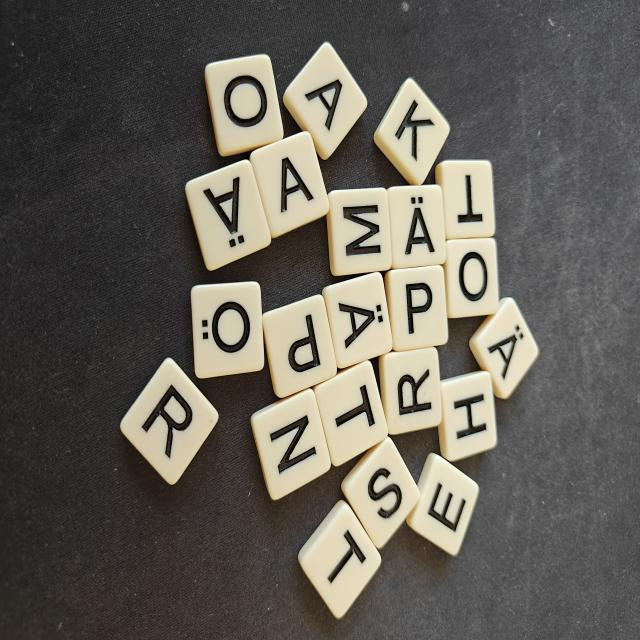a: (283, 42, 367, 160), (250, 132, 329, 237)
a_dot: (185, 160, 271, 270), (469, 297, 539, 399), (322, 272, 393, 368), (387, 185, 446, 269)
e: (406, 453, 479, 556)
h: (438, 371, 497, 461)
k: (374, 78, 450, 185)
m: (327, 188, 392, 276)
n: (251, 389, 331, 500)
o: (205, 54, 283, 156), (444, 238, 499, 318)
o_dot: (191, 282, 264, 378)
p: (262, 295, 337, 398), (385, 265, 448, 351)
r: (121, 358, 218, 484), (379, 347, 442, 434)
s: (341, 437, 420, 549)
t: (298, 500, 381, 618), (312, 360, 388, 465), (435, 160, 495, 239)
